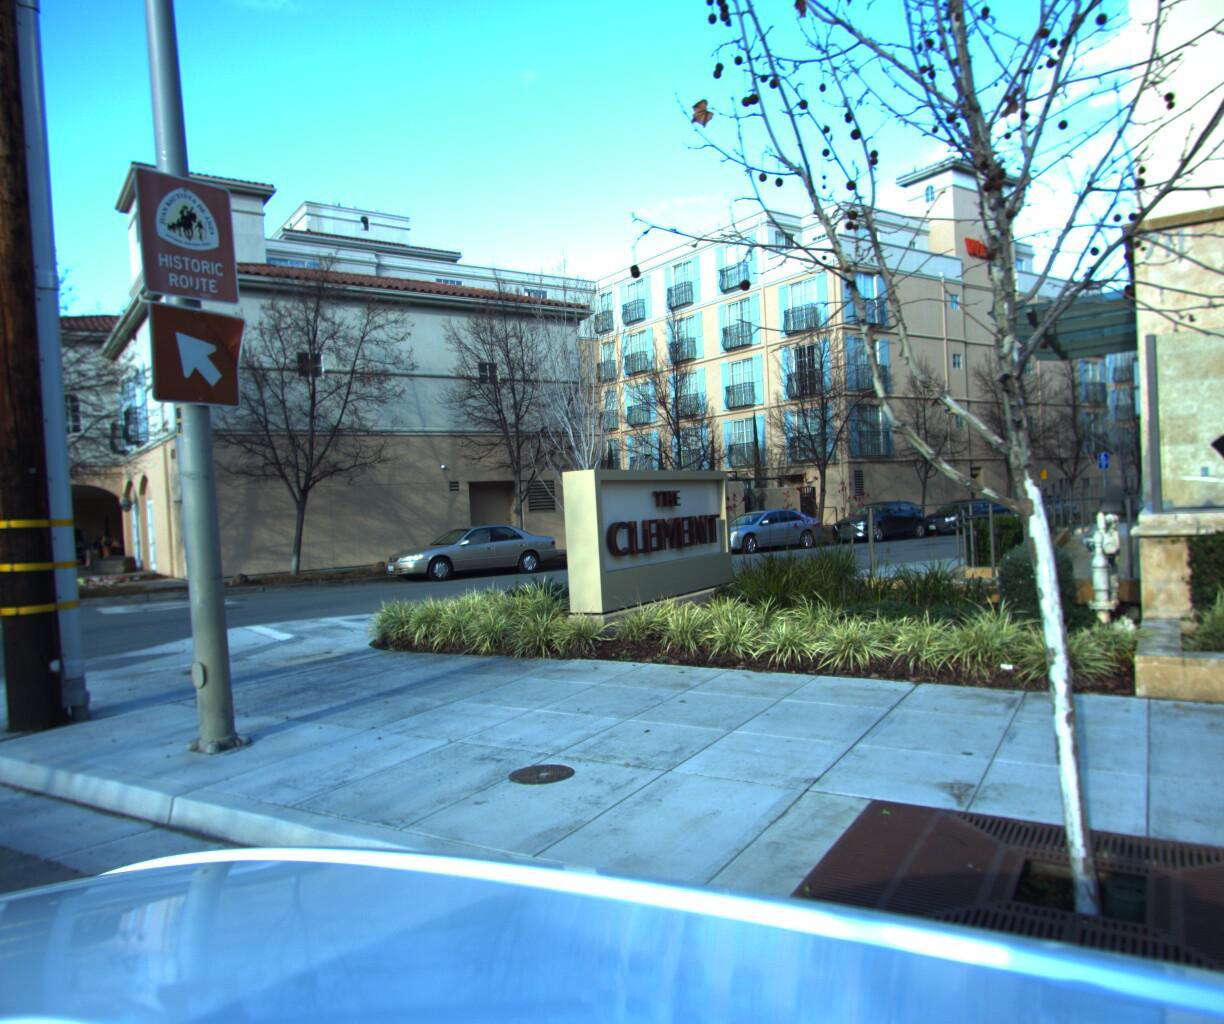car: (371, 513, 558, 583), (549, 503, 707, 565), (684, 498, 820, 551), (822, 492, 924, 538), (912, 488, 1011, 529), (990, 485, 1078, 524)
